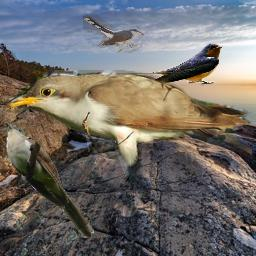Cuckoo: (3, 70, 252, 189), (5, 122, 94, 238), (83, 14, 144, 53)
Swallow: (120, 42, 223, 86)
